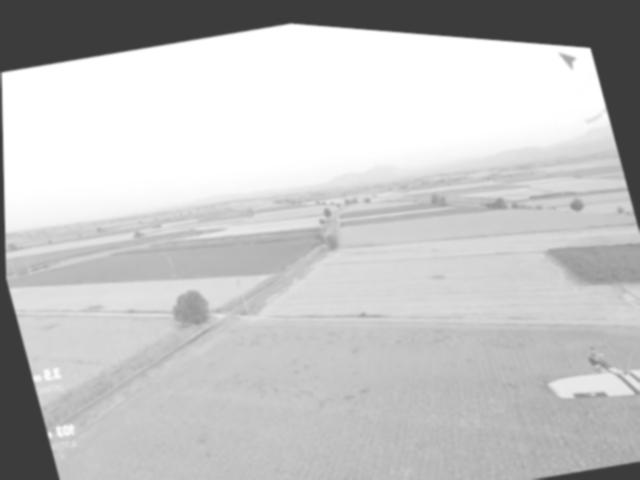hedef: (533, 316, 640, 462)
